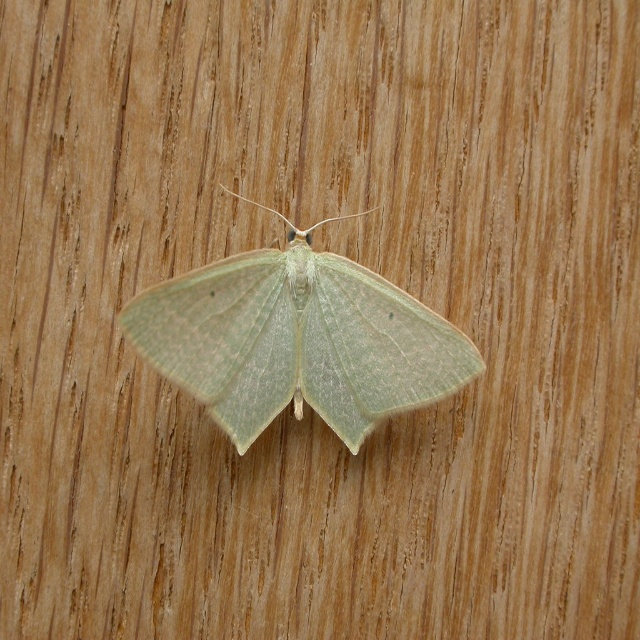Butterfly: (125, 174, 463, 487)
